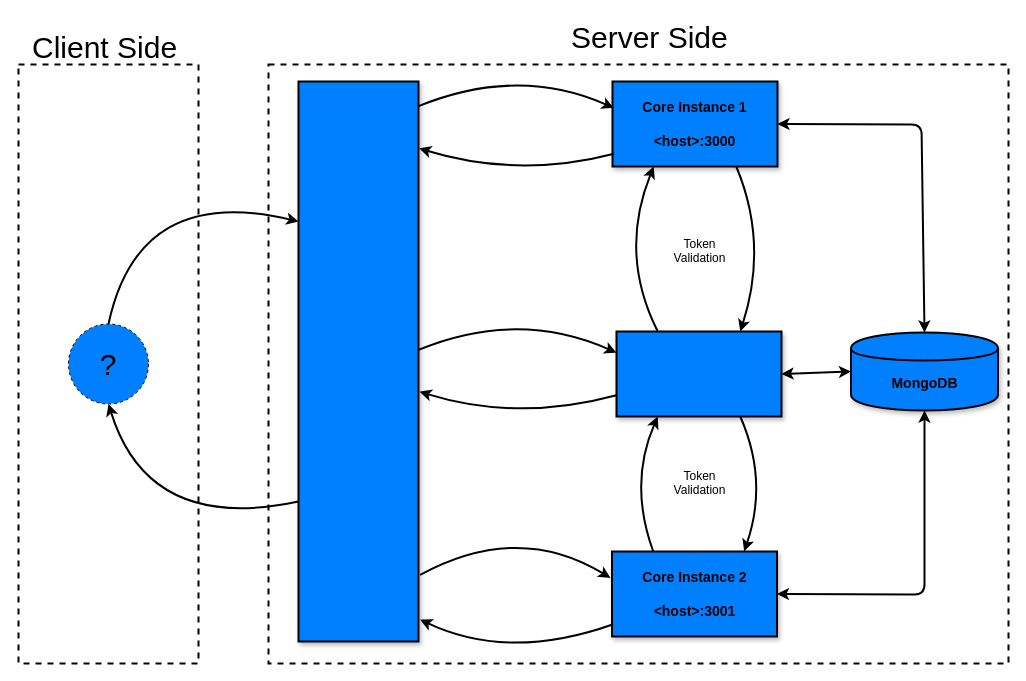
Some shapes in this 1026 by 681 pixel diagram are drawn without their labels. Here are the shapes that lost their labels. From the top down, the centre of each, then its label:
At [359,362]: "API <host>:3333".
At [699,375]: "Auth <host>:5000".
